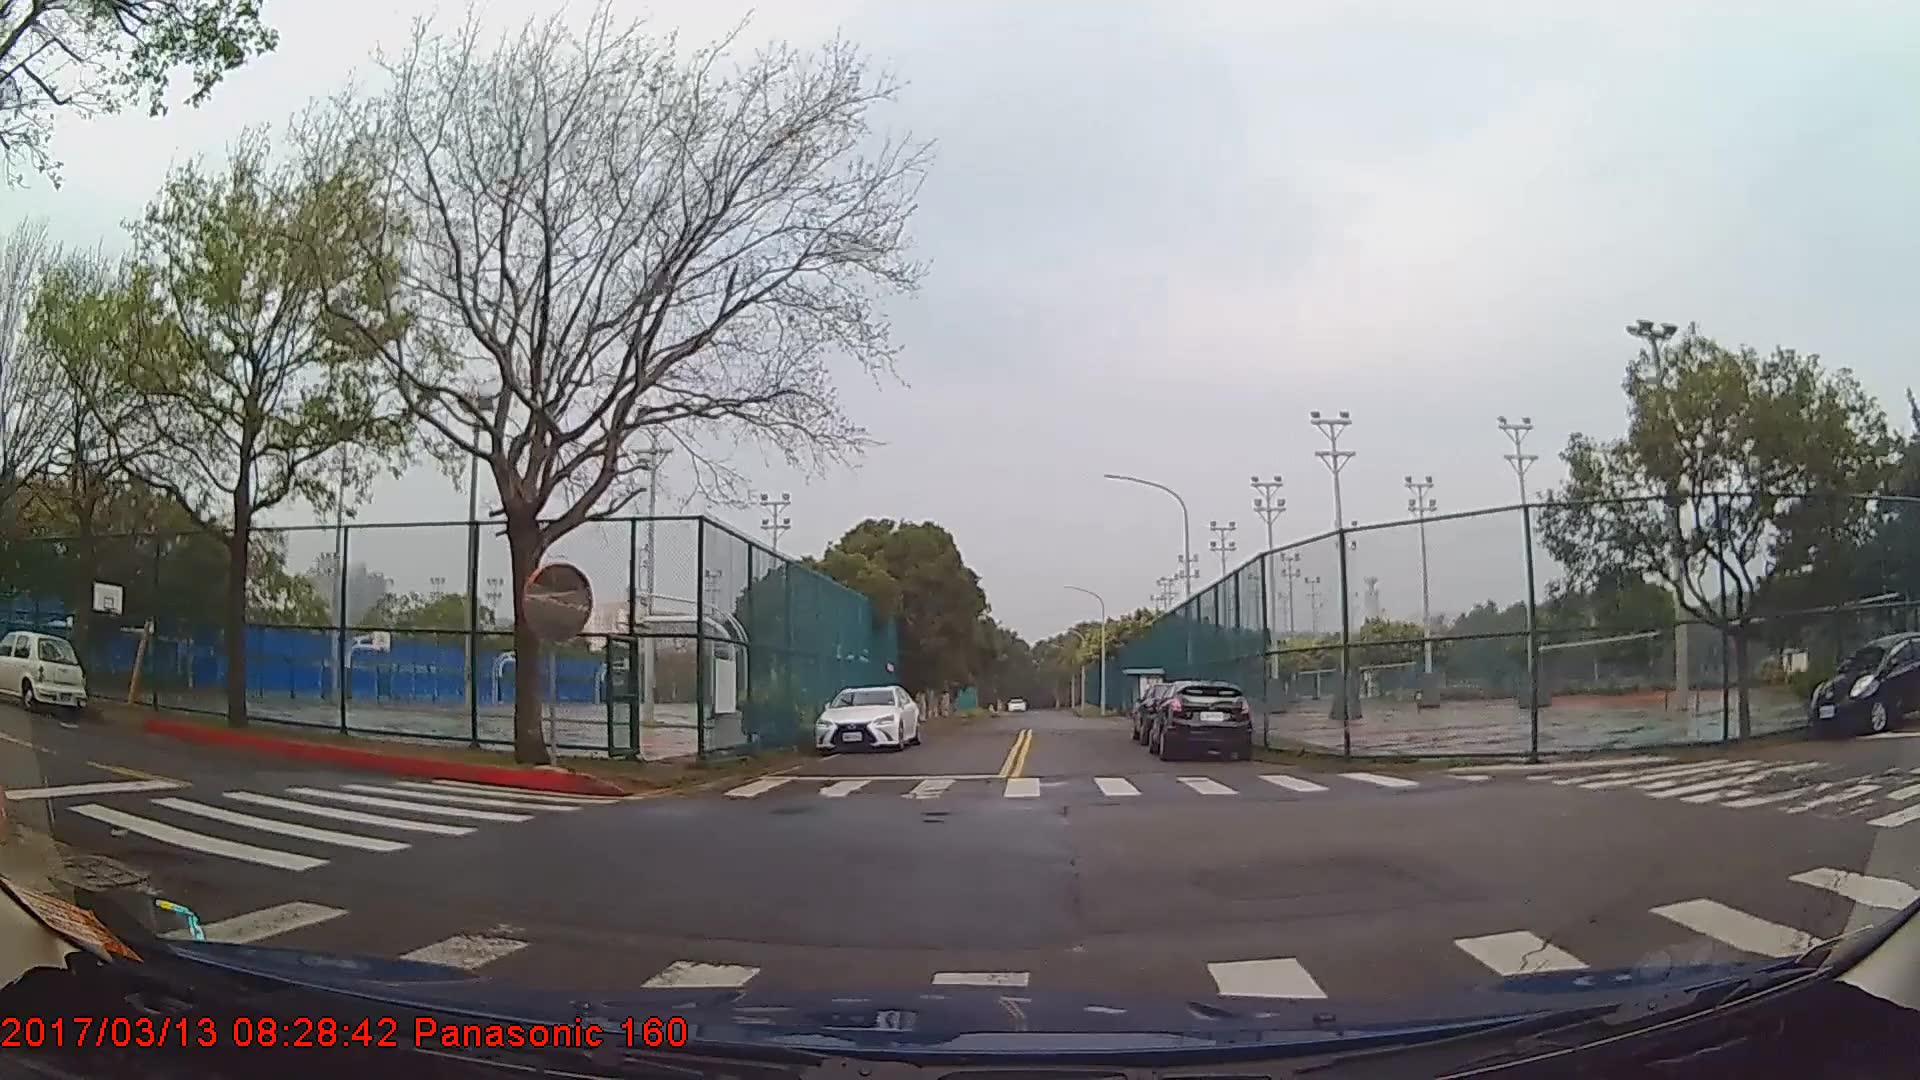vehicle: (1811, 625, 1920, 737), (1153, 680, 1257, 765), (0, 630, 88, 717), (818, 686, 923, 758)
